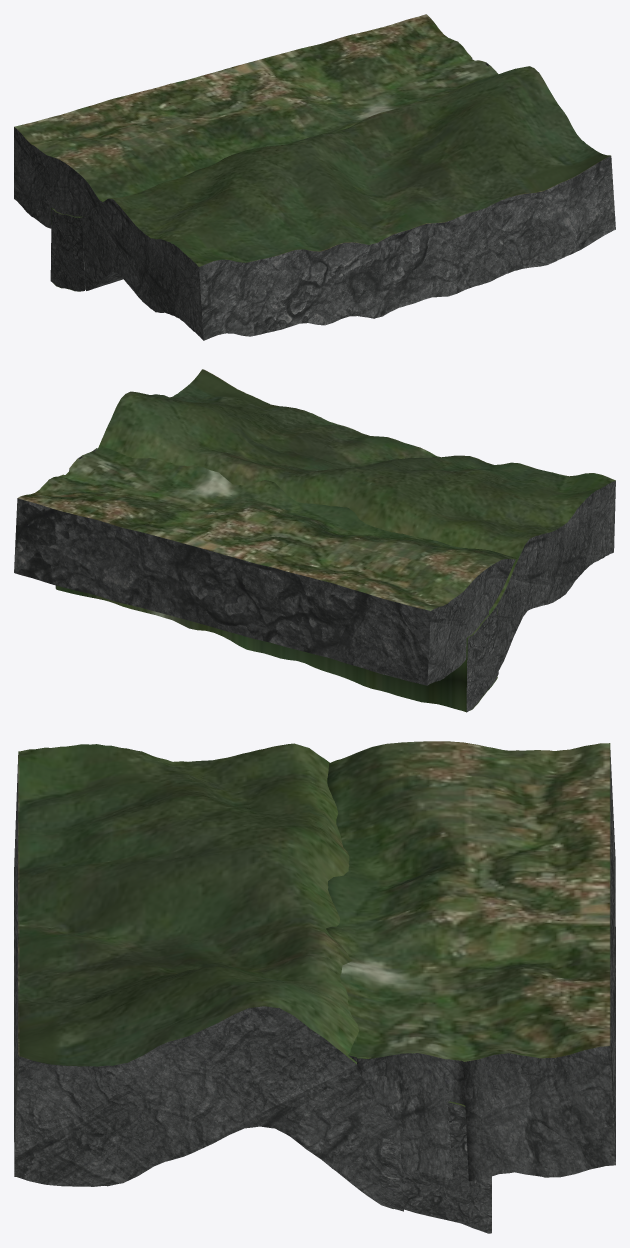
File: tectonic plates.glb
3 renders of one model, top to bottom at view 1: azimuth 30°, elevation 25°; view 2: azimuth 150°, elevation 25°; view 3: azimuth 270°, elevation 25°, orthographic. The views are drawn at different scales.
Visible parts, largest first — view 1: SketchUp.006_3, SketchUp.002_2, SketchUp.001_4; view 2: SketchUp.002_2, SketchUp.006_3, SketchUp.001_4; view 3: SketchUp.006_3, SketchUp.002_2, SketchUp.001_4.
Part boxes in pixels (x1,y1,x2,y2): SketchUp.006_3: (81,66,615,340); SketchUp.002_2: (14,14,498,228); SketchUp.001_4: (50,208,85,291); SketchUp.002_2: (14,445,516,685); SketchUp.006_3: (98,369,615,670); SketchUp.001_4: (55,585,498,712); SketchUp.006_3: (14,743,403,1211); SketchUp.002_2: (326,741,615,1181); SketchUp.001_4: (402,1052,491,1233).
Size of the model in its own units: 6.78 by 2.6 by 5.31.
11 materials, 11 textured.
